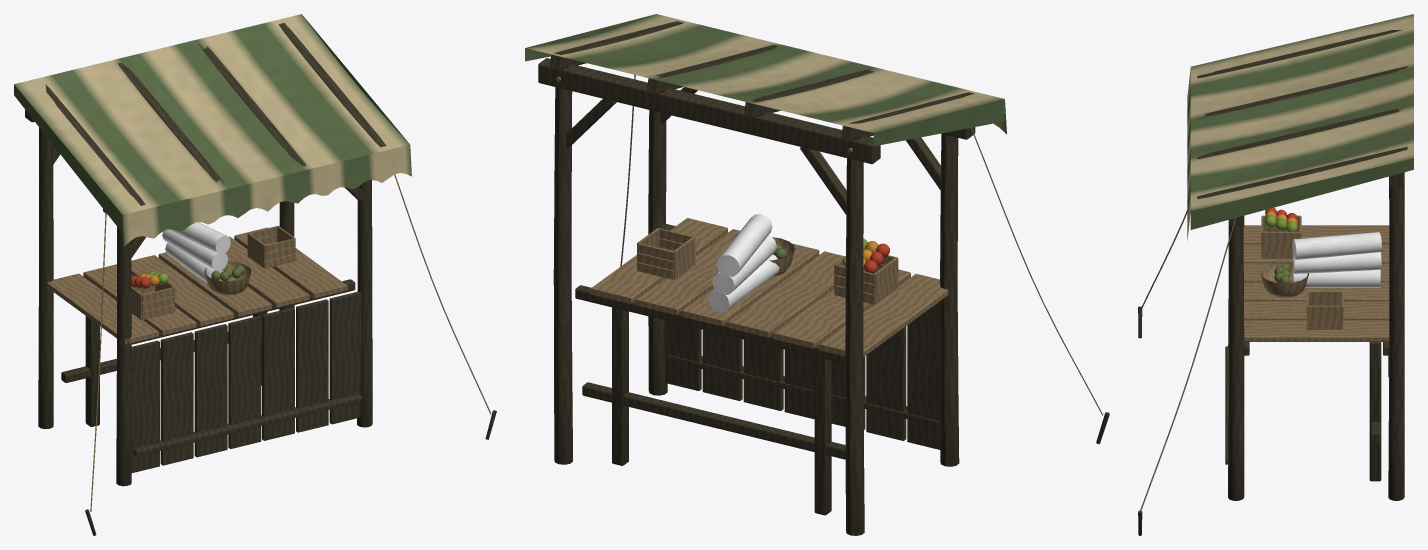
3 views of the same model, side by side, from view 1: azimuth 30°, elevation 25°; view 2: azimuth 150°, elevation 25°; view 3: azimuth 270°, elevation 25° (orthographic). The views are drawn at different scales.
Parts seen in each view (by area): view 1: woven canvas, heartwood, cut grain; view 2: heartwood, woven canvas, cut grain, ceramic glaze; view 3: woven canvas, heartwood, cut grain, ceramic glaze.
Part boxes in pixels (x1=…): woven canvas: x1=14, y1=14, x2=411, y2=283; heartwood: x1=25, y1=23, x2=496, y2=535; cut grain: x1=46, y1=174, x2=491, y2=511; heartwood: x1=538, y1=21, x2=1109, y2=535; woven canvas: x1=525, y1=14, x2=1006, y2=312; cut grain: x1=556, y1=75, x2=1102, y2=415; ceramic glaze: x1=842, y1=238, x2=889, y2=273; woven canvas: x1=1187, y1=14, x2=1413, y2=287; heartwood: x1=1138, y1=30, x2=1407, y2=535; cut grain: x1=1139, y1=172, x2=1405, y2=510; ceramic glaze: x1=1265, y1=207, x2=1297, y2=231.
Bounding box in the file's own units: 2.8 × 2.22 × 1.58.
5 materials, 4 textured.
